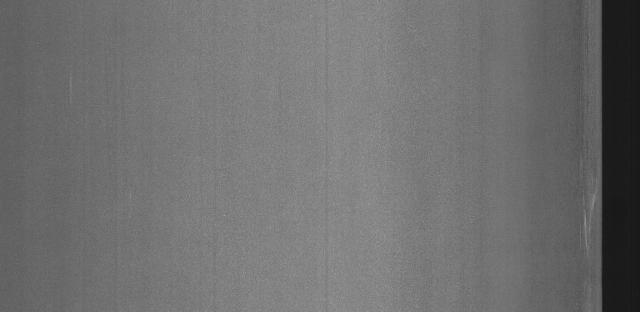silk_spot: (553, 160, 597, 268)
